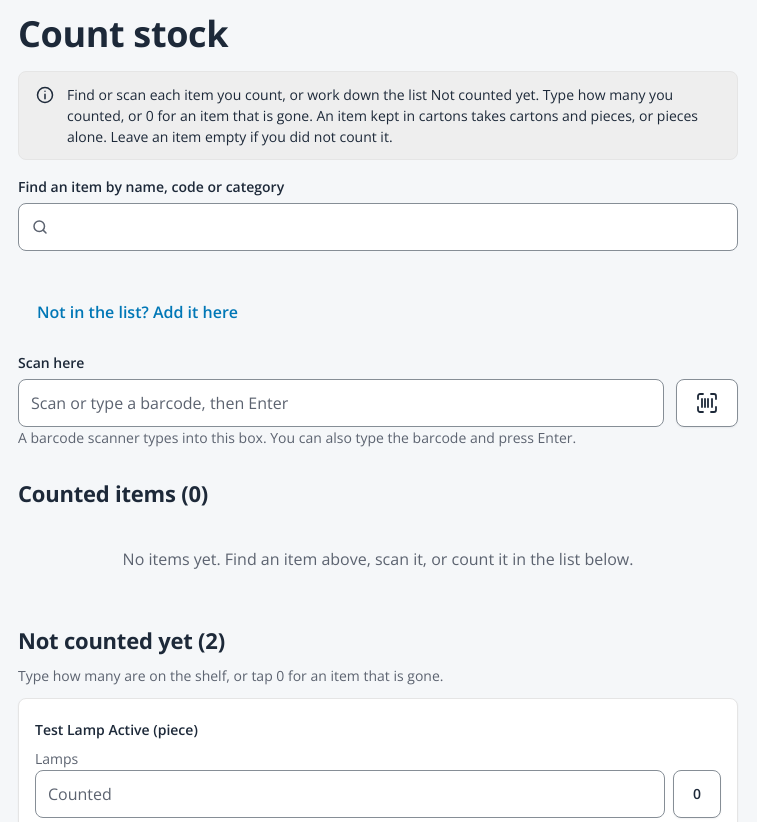
Test case: counting the sheet › shows every item of the sheet as not counted yet, and no search list until something is typed
The image size is (757, 822).
Expected: the text "No items yet. Find an item above, scan it, or count it in the list below." is shown, top-left (123, 548), bottom-right (633, 570)
Expected: the heading "Not counted yet (2)" is shown, top-left (18, 625), bottom-right (225, 655)
Type "A-1" into the dropdown labelled "Find an item by name, code or category". click: (378, 227)
box: top-left (18, 203), bottom-right (738, 251)
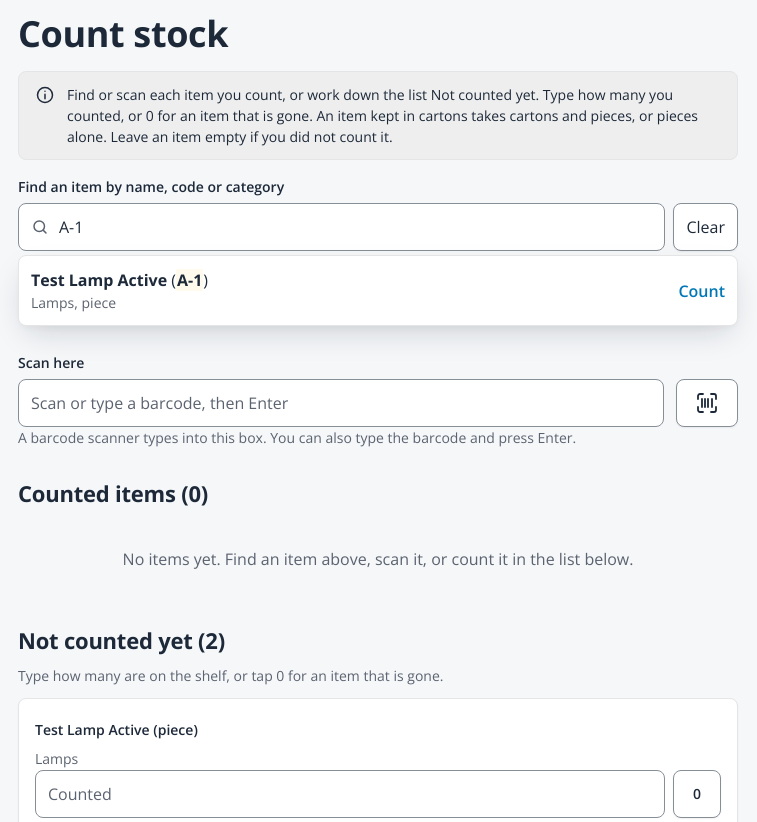
Result: the number of options is 1 at top-left (19, 260), bottom-right (737, 321)
Result: the dropdown labelled "Find an item by name, code or category" is expanded at top-left (18, 203), bottom-right (666, 251)
